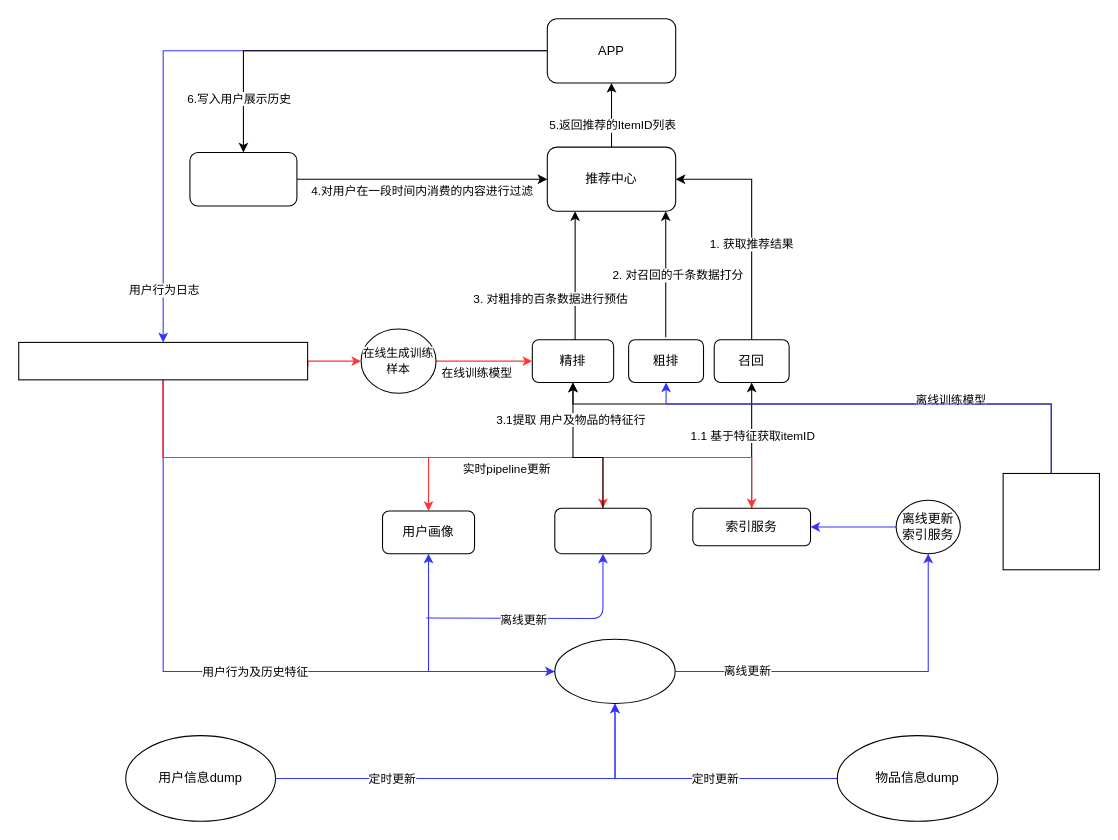
Image size: 1118x840. Some labels were removed from this diagram. Here are the shapes that lost their labels. From the top down, the box of each, then its label:
(189, 151, 297, 206): 用户历史DB
(18, 341, 308, 380): 数据总线
(554, 507, 651, 554): 物品画像
(1002, 472, 1099, 570): 机器学习平台
(554, 638, 675, 704): HDFS
